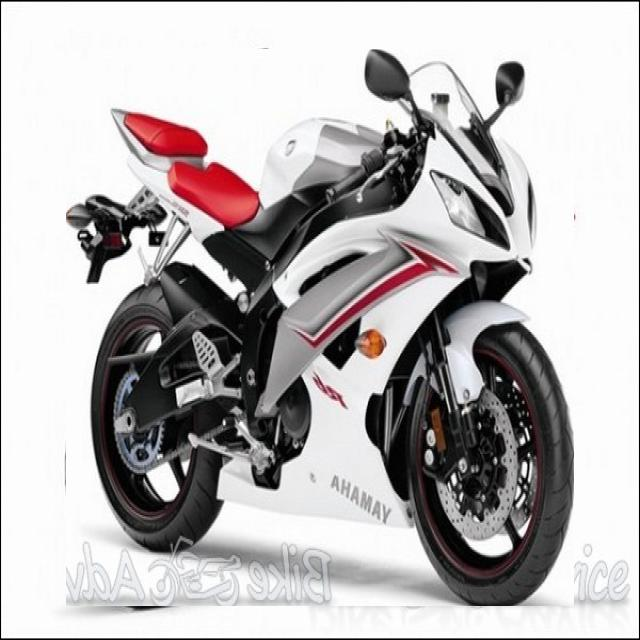motorcycle: (66, 49, 574, 606)
